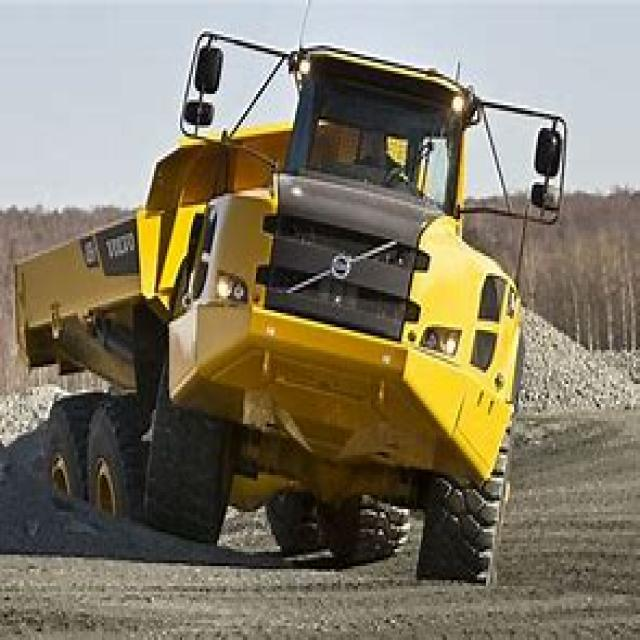dump_truck: (15, 23, 562, 586)
